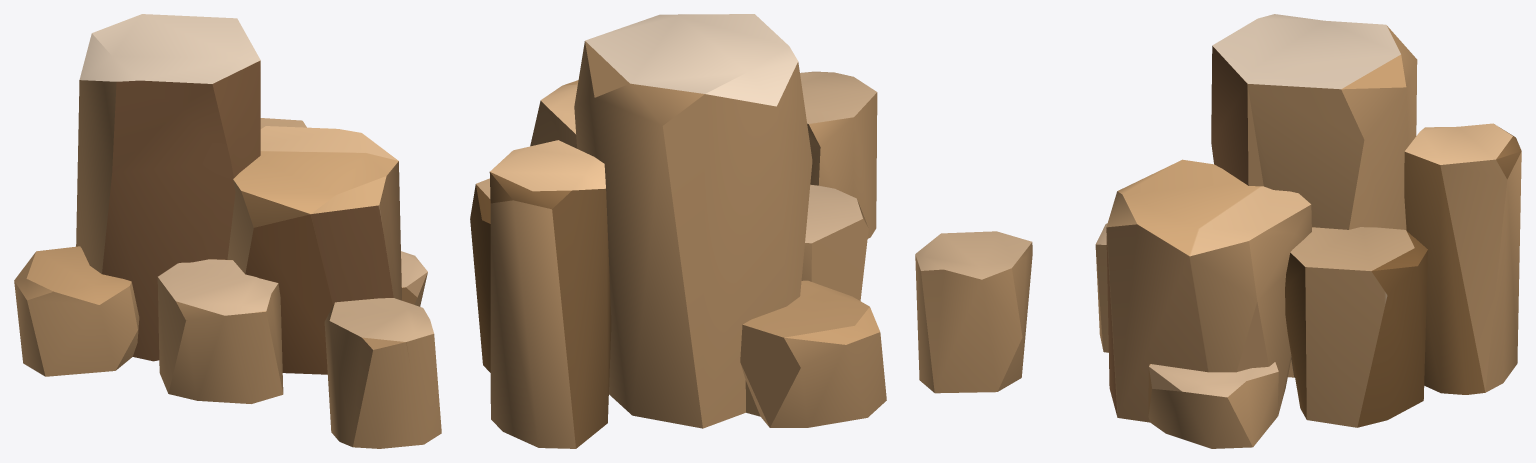
File: montaña1.fbx
The picture shows the model from 3 angles, left to right: view 1: azimuth 30°, elevation 25°; view 2: azimuth 150°, elevation 25°; view 3: azimuth 270°, elevation 25°; orthographic projection. The views are drawn at different scales.
Visible parts, largest first — view 1: montaña1:Mesh; view 2: montaña1:Mesh; view 3: montaña1:Mesh.
Part boxes in pixels (bbox=[...]): montaña1:Mesh: bbox=[14, 14, 441, 448]; montaña1:Mesh: bbox=[470, 14, 886, 448]; montaña1:Mesh: bbox=[915, 14, 1521, 448].
Bounding box in the file's own units: 219 × 163 × 302.
Materials: 1 (1 with a texture image).
